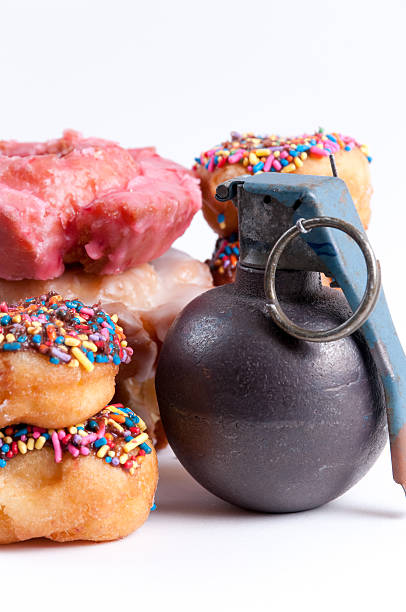e1: (160, 172, 406, 507)
